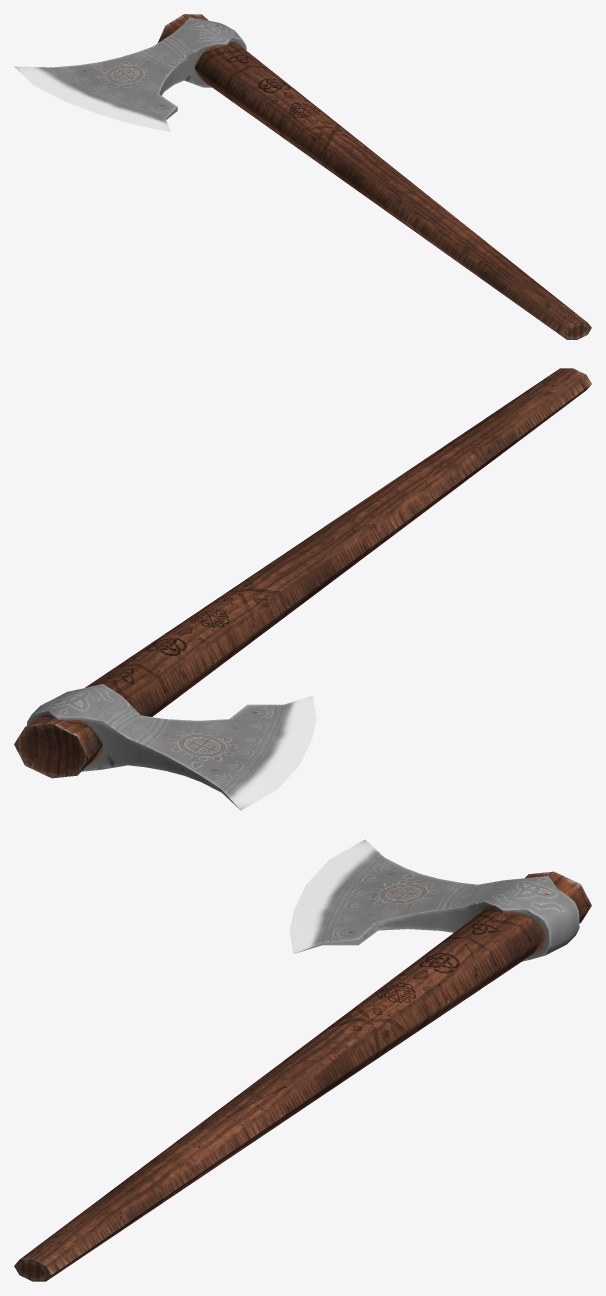
Rendered from Axe.obj.
3 views of the same model, one above another, from view 1: azimuth 30°, elevation 25°; view 2: azimuth 150°, elevation 25°; view 3: azimuth 330°, elevation 25° (orthographic). The views are drawn at different scales.
Parts seen in each view (by area): view 1: Cylinder_Cylinder.001; view 2: Cylinder_Cylinder.001; view 3: Cylinder_Cylinder.001.
Boxes of the visible parts, x1,y1,x2,y2 form: Cylinder_Cylinder.001: (14,14,591,339); Cylinder_Cylinder.001: (14,368,591,810); Cylinder_Cylinder.001: (14,839,591,1281).
Size of the model in its own units: 3.49 by 0.8508 by 12.6.
Materials: 1 (1 with a texture image).
